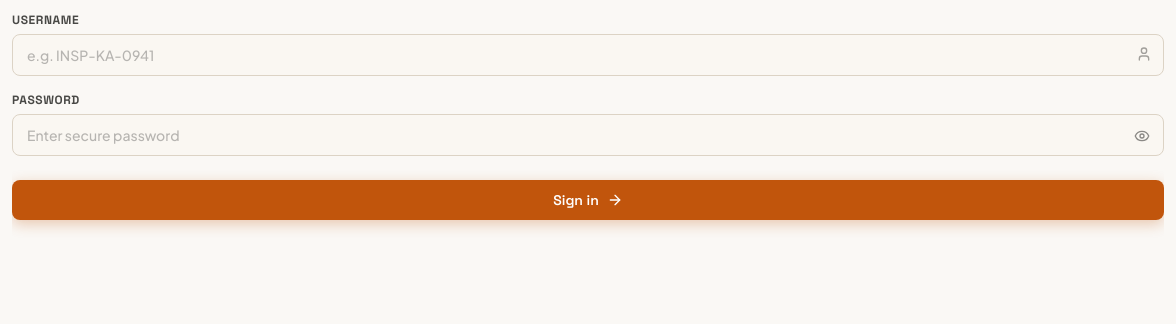
Test case: accessibility regressions › announces API errors and polite toast updates
This screenshot has width=1176, height=324.
In the field labelled "Username": (588, 55) [12, 34, 1164, 76], type "person"
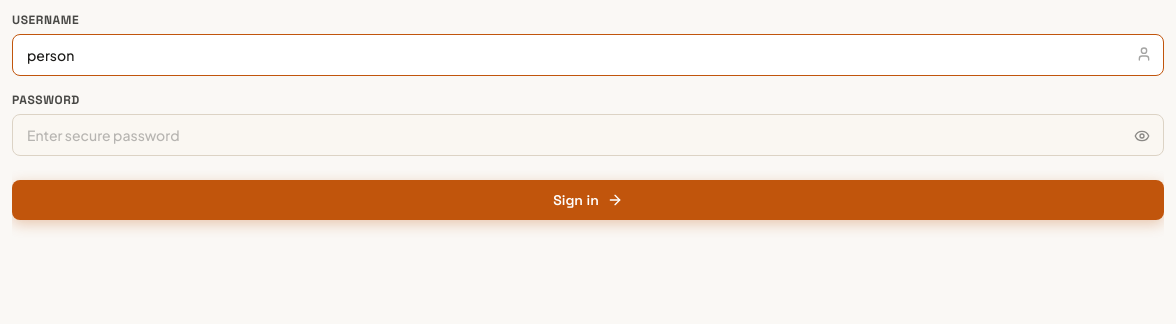
In the password field labelled "Password": (588, 135) [12, 114, 1164, 156], type "wrong password"
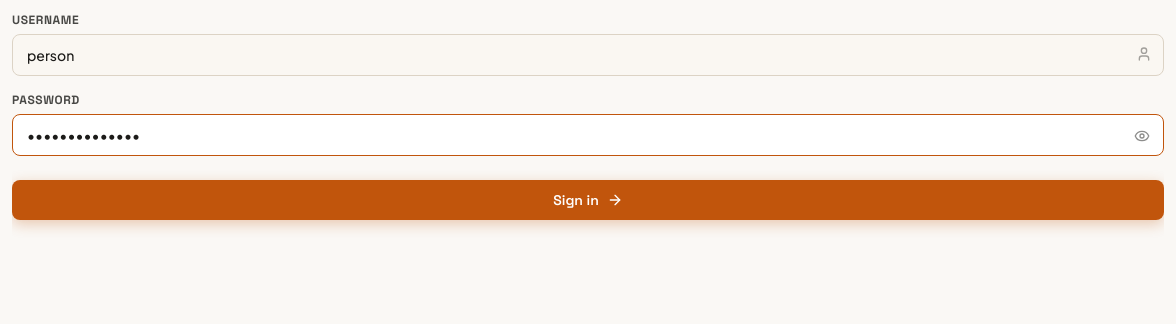
Click the button "Sign in": (588, 200) [12, 180, 1164, 220]
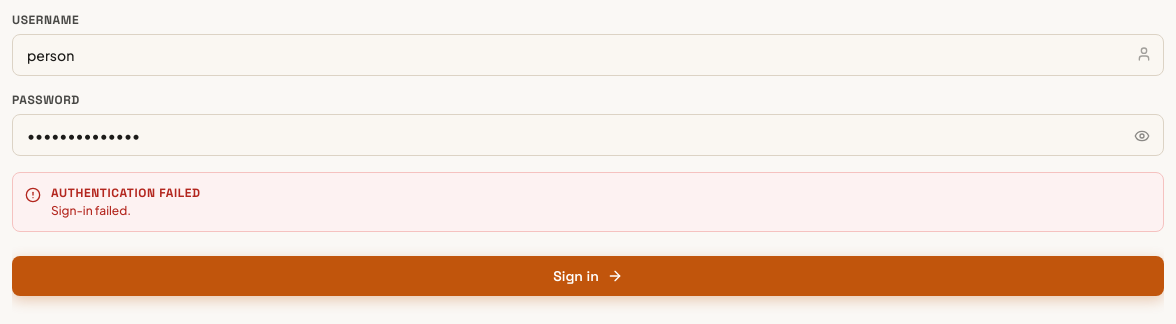
Expected: the message shows "Sign-in failed", [51, 203, 131, 218]
